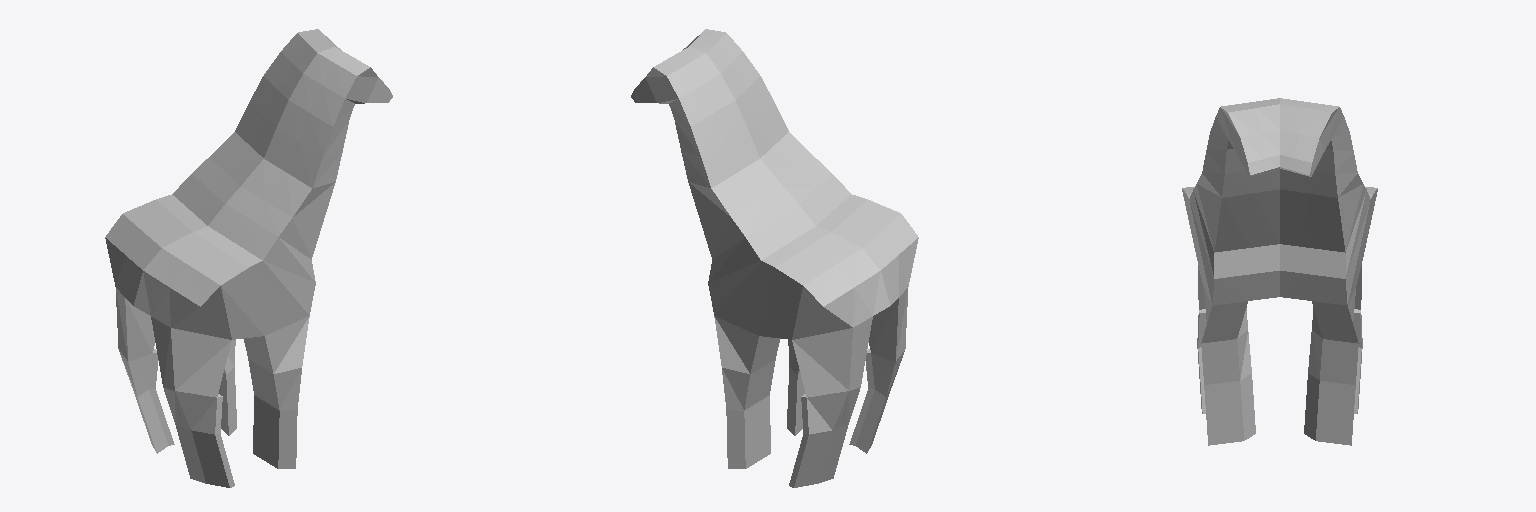
The model's file is giraffelol.obj.
3 renders of one model, left to right at view 1: azimuth 30°, elevation 25°; view 2: azimuth 150°, elevation 25°; view 3: azimuth 270°, elevation 25°, orthographic.
Visible parts, largest first — view 1: Plane; view 2: Plane; view 3: Plane.
Boxes of the visible parts, x1,y1,x2,y2 form: Plane: [105, 29, 392, 487]; Plane: [631, 29, 918, 487]; Plane: [1182, 98, 1377, 445].
Size of the model in its own units: 2.06 by 3.06 by 1.44.